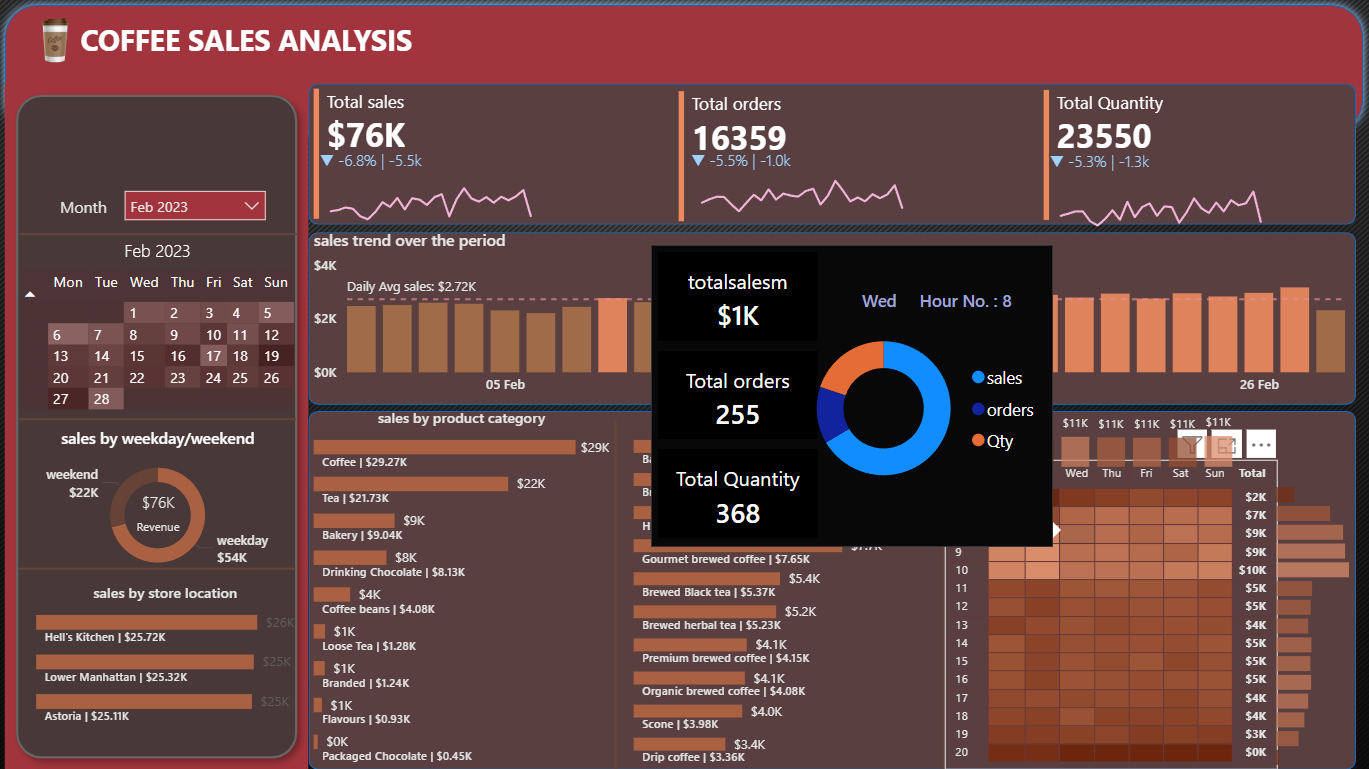

What the dashboard file says about the page in this screenshot:
{"tool":"powerbi","page":{"name":"Page 1","canvas":[1280,720],"ordinal":0},"visuals":[{"type":"shape","box":[0,0,1280.2,134.9],"z":0},{"type":"shape","box":[290.7,386,974.4,333.7],"z":1000},{"type":"textbox","box":[66.3,17.4,348.8,46.5],"z":2000},{"type":"image","box":[32.6,15.1,45.3,52.3],"z":3000},{"type":"shape","box":[8.1,81.4,282.6,638.4],"z":4000},{"type":"shape","box":[290.7,81.4,974.4,131.4],"z":5000},{"type":"cardVisual","fields":{"Data":["Sum(Coffee.toatal sales)"]},"box":[290.7,81.4,310.5,131.4],"z":6000,"group":"g3"},{"type":"cardVisual","fields":{"Data":["Coffee.Total Quantity"]},"box":[969.5,82.6,310.5,131.4],"z":6000,"group":"g4"},{"type":"cardVisual","fields":{"Data":["Coffee.Total orders"]},"box":[630.2,83.7,310.5,131.4],"z":6000,"group":"g2"},{"type":"slicer","fields":{"Values":["Table.month year"]},"box":[108.8,171.2,151.2,46.2],"z":6000},{"type":"group","id":"g1","title":"Group 1","box":[290.7,81.4,310.5,137.8],"z":7000},{"type":"lineChart","fields":{"Category":["Table.Date Hierarchy.Date"],"Y":["Sum(Coffee.total sales)"]},"box":[296.9,141.5,216.2,77.7],"z":7000,"group":"g3"},{"type":"lineChart","fields":{"Category":["Table.Date Hierarchy.Date"],"Y":["Coffee.Total orders"]},"box":[641.8,141.8,216.3,76.7],"z":7000,"group":"g2"},{"type":"lineChart","fields":{"Category":["Table.Date Hierarchy.Date"],"Y":["Coffee.Total Quantity"]},"box":[975.7,142.7,216.2,77.7],"z":7000,"group":"g4"},{"type":"group","id":"g2","title":"Group 3","box":[630.2,83.7,310.5,134.9],"z":8000},{"type":"group","id":"g3","title":"Group 2","box":[290.7,81.4,310.5,137.8],"z":8001,"group":"g1"},{"type":"group","id":"g4","title":"Group 4","box":[969.5,82.6,310.5,137.8],"z":9000},{"type":"pivotTable","fields":{"Rows":["Table.week num"],"Columns":["Table.week day"],"Values":["Min(Table.Day num)"]},"box":[22.1,250,258.1,151.2],"z":10000},{"type":"cardVisual","fields":{"Data":["Min(Table.month year)"]},"box":[77.9,198.8,145.3,66.3],"z":11000},{"type":"shape","box":[20.9,373.3,258.1,40.7],"z":12000},{"type":"shape","box":[22.1,201.2,258.1,40.7],"z":13000},{"type":"donutChart","title":"sales by weekday/weekend","fields":{"Category":["Table.day type"],"Y":["Coffee.totalsalesm"]},"box":[26,401,250,144],"z":14000},{"type":"card","fields":{"Values":["Coffee.totalsalesm"]},"box":[93.8,451.2,113.8,61.2],"z":15000},{"type":"shape","box":[21.2,512.5,257.5,40],"z":16000},{"type":"clusteredBarChart","title":"sales by store location","fields":{"Category":["Coffee.store_location"],"Y":["Coffee.totalsalesm","Coffee.Placeholder"]},"box":[32.5,545,250,138.8],"z":17000},{"type":"shape","box":[290.7,219.8,974.4,160.5],"z":18000},{"type":"columnChart","title":"sales trend over the period","fields":{"Category":["Coffee.transaction_date"],"Y":["Coffee.totalsalesm"]},"box":[290.7,216.3,974.4,164],"z":19000},{"type":"clusteredBarChart","title":"sales by product category","fields":{"Category":["Coffee.product_category"],"Y":["Coffee.totalsalesm","Coffee.Placeholder"]},"box":[290.7,382.6,284.9,337.2],"z":20000},{"type":"shape","box":[527.9,394.2,96.5,325.6],"z":21000},{"type":"clusteredBarChart","title":"sales by product type","fields":{"Category":["Coffee.product_type"],"Y":["Coffee.totalsalesm","Coffee.Placeholder"]},"box":[588.4,382.6,308.1,337.2],"z":22000},{"type":"shape","box":[833.7,386,96.5,333.7],"z":23000},{"type":"pivotTable","fields":{"Rows":["Coffee.Hour"],"Columns":["Table.week day"],"Values":["Coffee.totalsalesm"]},"box":[882.6,431.4,309.3,288.4],"z":23001},{"type":"clusteredBarChart","fields":{"Category":["Coffee.Hour"],"Y":["Coffee.totalsalesm"]},"box":[1186.2,443.8,80,276.2],"z":23002},{"type":"clusteredColumnChart","fields":{"Category":["Table.week day"],"Y":["Coffee.totalsalesm"]},"box":[920,377.5,236.2,66.2],"z":23003},{"type":"textbox","box":[55,181.2,65,33.8],"z":23004}]}

Visuals, with their boxes in screenshot pixels (x1, y1, x2, y2), scaled from the page's 1280x720 canvas onto the 1369x769 screenshot:
shape: l=0, t=0, r=1368, b=144
shape: l=311, t=412, r=1353, b=768
textbox: l=71, t=19, r=444, b=68
image: l=35, t=16, r=83, b=72
shape: l=9, t=87, r=311, b=768
shape: l=311, t=87, r=1353, b=227
cardVisual - Sum(Coffee.toatal sales): l=311, t=87, r=643, b=227
cardVisual - Coffee.Total Quantity: l=1037, t=88, r=1368, b=229
cardVisual - Coffee.Total orders: l=674, t=89, r=1006, b=230
slicer - Table.month year: l=116, t=183, r=278, b=232
"Group 1" group: l=311, t=87, r=643, b=234
lineChart - Table.Date Hierarchy.Date x Sum(Coffee.total sales): l=318, t=151, r=549, b=234
lineChart - Table.Date Hierarchy.Date x Coffee.Total orders: l=686, t=151, r=918, b=233
lineChart - Table.Date Hierarchy.Date x Coffee.Total Quantity: l=1044, t=152, r=1275, b=235
"Group 3" group: l=674, t=89, r=1006, b=233
"Group 2" group: l=311, t=87, r=643, b=234
"Group 4" group: l=1037, t=88, r=1368, b=235
pivotTable - Table.week num x Table.week day: l=24, t=267, r=300, b=429
cardVisual - Min(Table.month year): l=83, t=212, r=239, b=283
shape: l=22, t=399, r=298, b=442
shape: l=24, t=215, r=300, b=258
"sales by weekday/weekend" donutChart: l=28, t=428, r=295, b=582
card - Coffee.totalsalesm: l=100, t=482, r=222, b=547
shape: l=23, t=547, r=298, b=590
"sales by store location" clusteredBarChart: l=35, t=582, r=302, b=730
shape: l=311, t=235, r=1353, b=406
"sales trend over the period" columnChart: l=311, t=231, r=1353, b=406
"sales by product category" clusteredBarChart: l=311, t=409, r=616, b=768
shape: l=565, t=421, r=668, b=768
"sales by product type" clusteredBarChart: l=629, t=409, r=959, b=768
shape: l=892, t=412, r=995, b=768
pivotTable - Coffee.Hour x Table.week day: l=944, t=461, r=1275, b=768
clusteredBarChart - Coffee.Hour x Coffee.totalsalesm: l=1269, t=474, r=1354, b=768
clusteredColumnChart - Table.week day x Coffee.totalsalesm: l=984, t=403, r=1237, b=474
textbox: l=59, t=194, r=128, b=230
